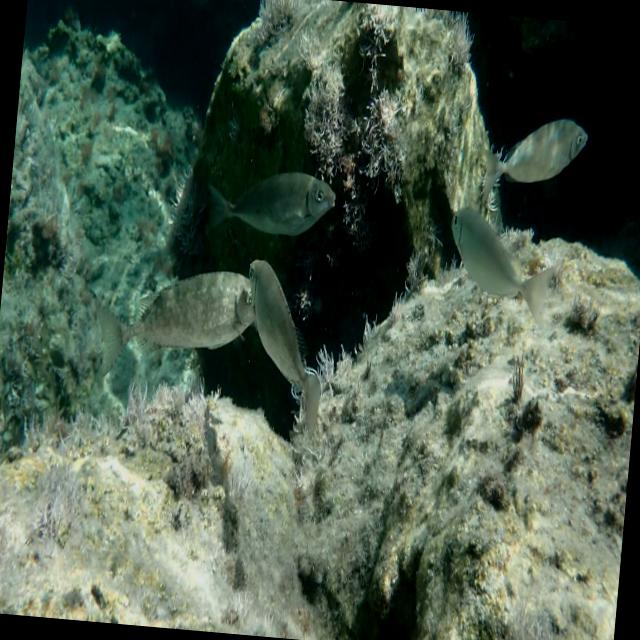Sokar Baligi: (432, 196, 564, 342), (189, 152, 350, 258), (469, 95, 604, 221)
